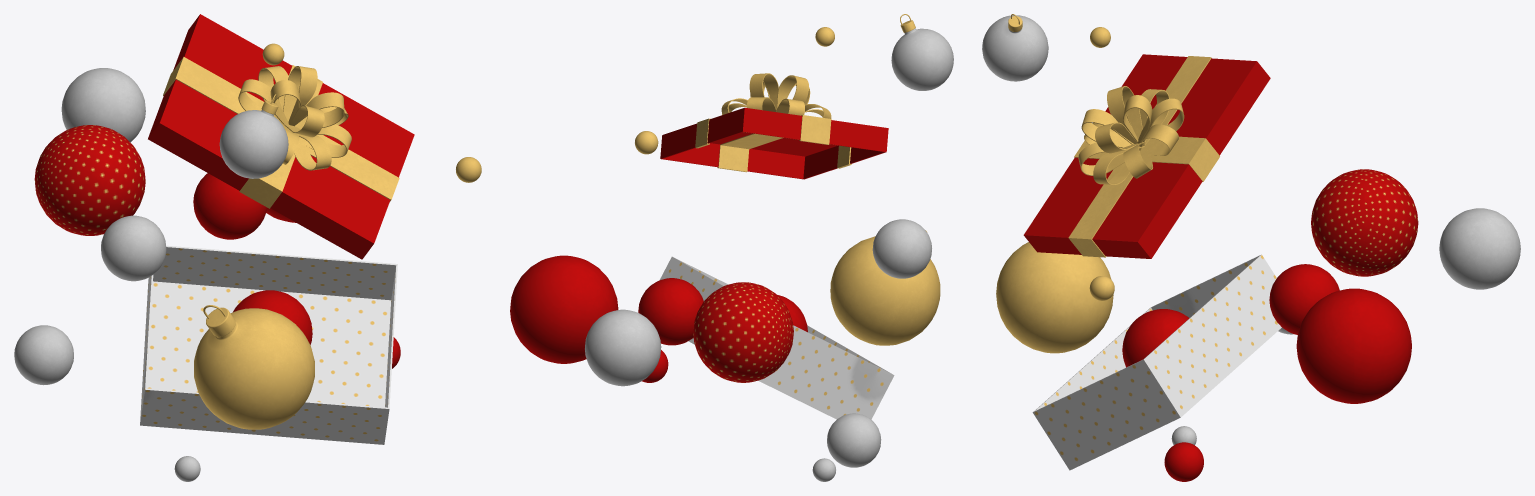
File: giftbox4.glb
The picture shows the model from 3 angles, left to right: view 1: azimuth 30°, elevation 25°; view 2: azimuth 150°, elevation 25°; view 3: azimuth 270°, elevation 25°; orthographic projection. The views are drawn at different scales.
Parts seen in each view (by area): view 1: Plane, Plane.001, Sphere.008, Sphere.010, Plane.003, Plane.002, Sphere.011, Sphere.009, Sphere.006, Sphere.005, Sphere.003, Sphere.007 (+2 smaller); view 2: Plane.001, Sphere.012, Plane, Sphere.010, Sphere.008, Sphere.011, Sphere.009, Sphere.005, Sphere.006, Plane.002, Plane.003, Sphere.003; view 3: Plane, Plane.001, Sphere.012, Sphere.008, Sphere.010, Plane.003, Sphere.011, Plane.002, Sphere.009, Sphere.005, Sphere.007, Sphere.004.
Part boxes in pixels (x1,y1,x2,y2): Plane: (140,245,397,444); Plane.001: (148,14,414,259); Sphere.008: (194,305,314,429); Sphere.010: (34,125,145,235); Plane.003: (238,66,351,170); Plane.002: (163,57,399,208); Sphere.011: (61,68,145,142); Sphere.009: (219,94,288,178); Sphere.006: (101,215,166,281); Sphere.005: (193,173,266,239); Sphere.003: (14,325,73,385); Sphere.007: (233,290,312,344); Plane.001: (660,107,888,179); Sphere.012: (510,255,618,363); Plane: (660,256,894,419); Sphere.010: (693,282,793,382); Sphere.008: (830,230,940,345); Sphere.011: (585,309,661,386); Sphere.009: (891,14,953,90); Sphere.005: (638,278,703,345); Sphere.006: (872,219,931,278); Plane.002: (695,115,851,172); Plane.003: (721,73,831,119); Sphere.003: (827,413,881,467); Plane: (1032,254,1281,470); Plane.001: (1023,54,1270,258); Sphere.012: (1296,288,1411,403); Sphere.008: (996,242,1113,353); Sphere.010: (1311,169,1418,276); Plane.003: (1078,86,1184,184); Sphere.011: (1439,208,1520,289); Plane.002: (1068,56,1219,257); Sphere.009: (982,14,1048,81); Sphere.005: (1269,264,1339,334); Sphere.007: (1122,309,1189,367); Sphere.004: (1164,442,1203,481).
Size of the model in its own units: 3.89 by 4.66 by 5.15.
1 material, 1 textured.
